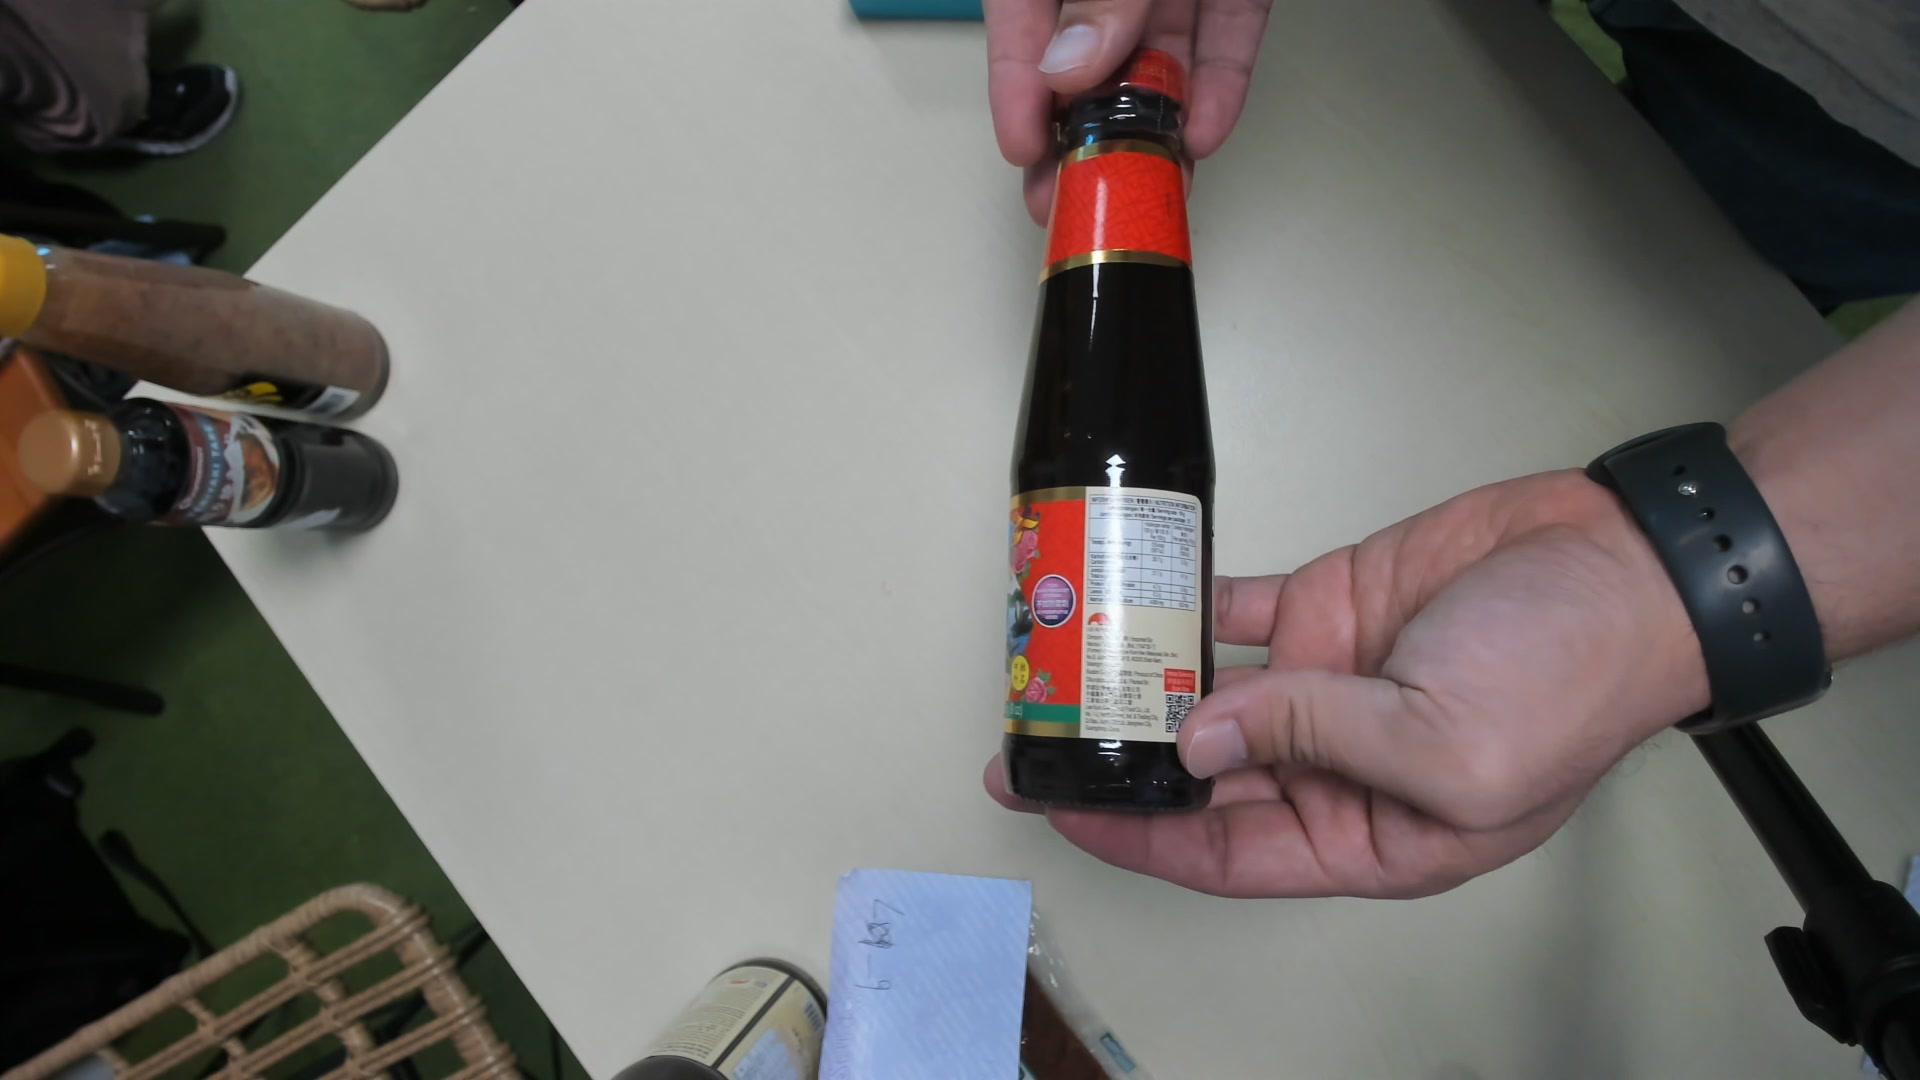OtherSauceDressingSoupbasePaste_200-299g_Halal_NonHealthy: (1005, 40, 1218, 815)
